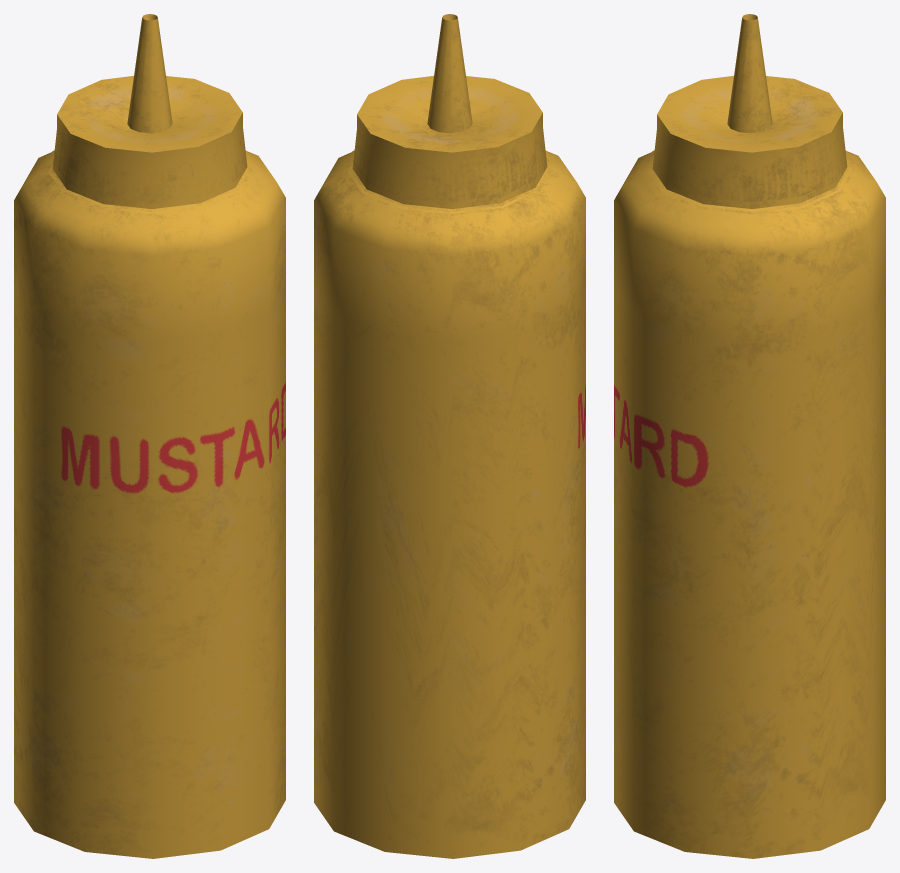
Rendered from TMM_CondimentBottle.fbx.
3 views of the same model, side by side, from view 1: azimuth 30°, elevation 25°; view 2: azimuth 150°, elevation 25°; view 3: azimuth 270°, elevation 25° (orthographic).
Parts seen in each view (by area): view 1: TMM_CondimentBottle; view 2: TMM_CondimentBottle; view 3: TMM_CondimentBottle.
Part boxes in pixels (x1,y1,x2,y2): TMM_CondimentBottle: (14,14,285,858); TMM_CondimentBottle: (314,14,585,858); TMM_CondimentBottle: (614,14,885,858).
Size of the model in its own units: 10.03 by 31.93 by 10.03.
